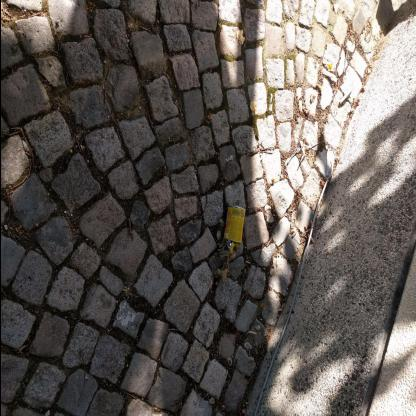metal: (222, 204, 244, 244)
